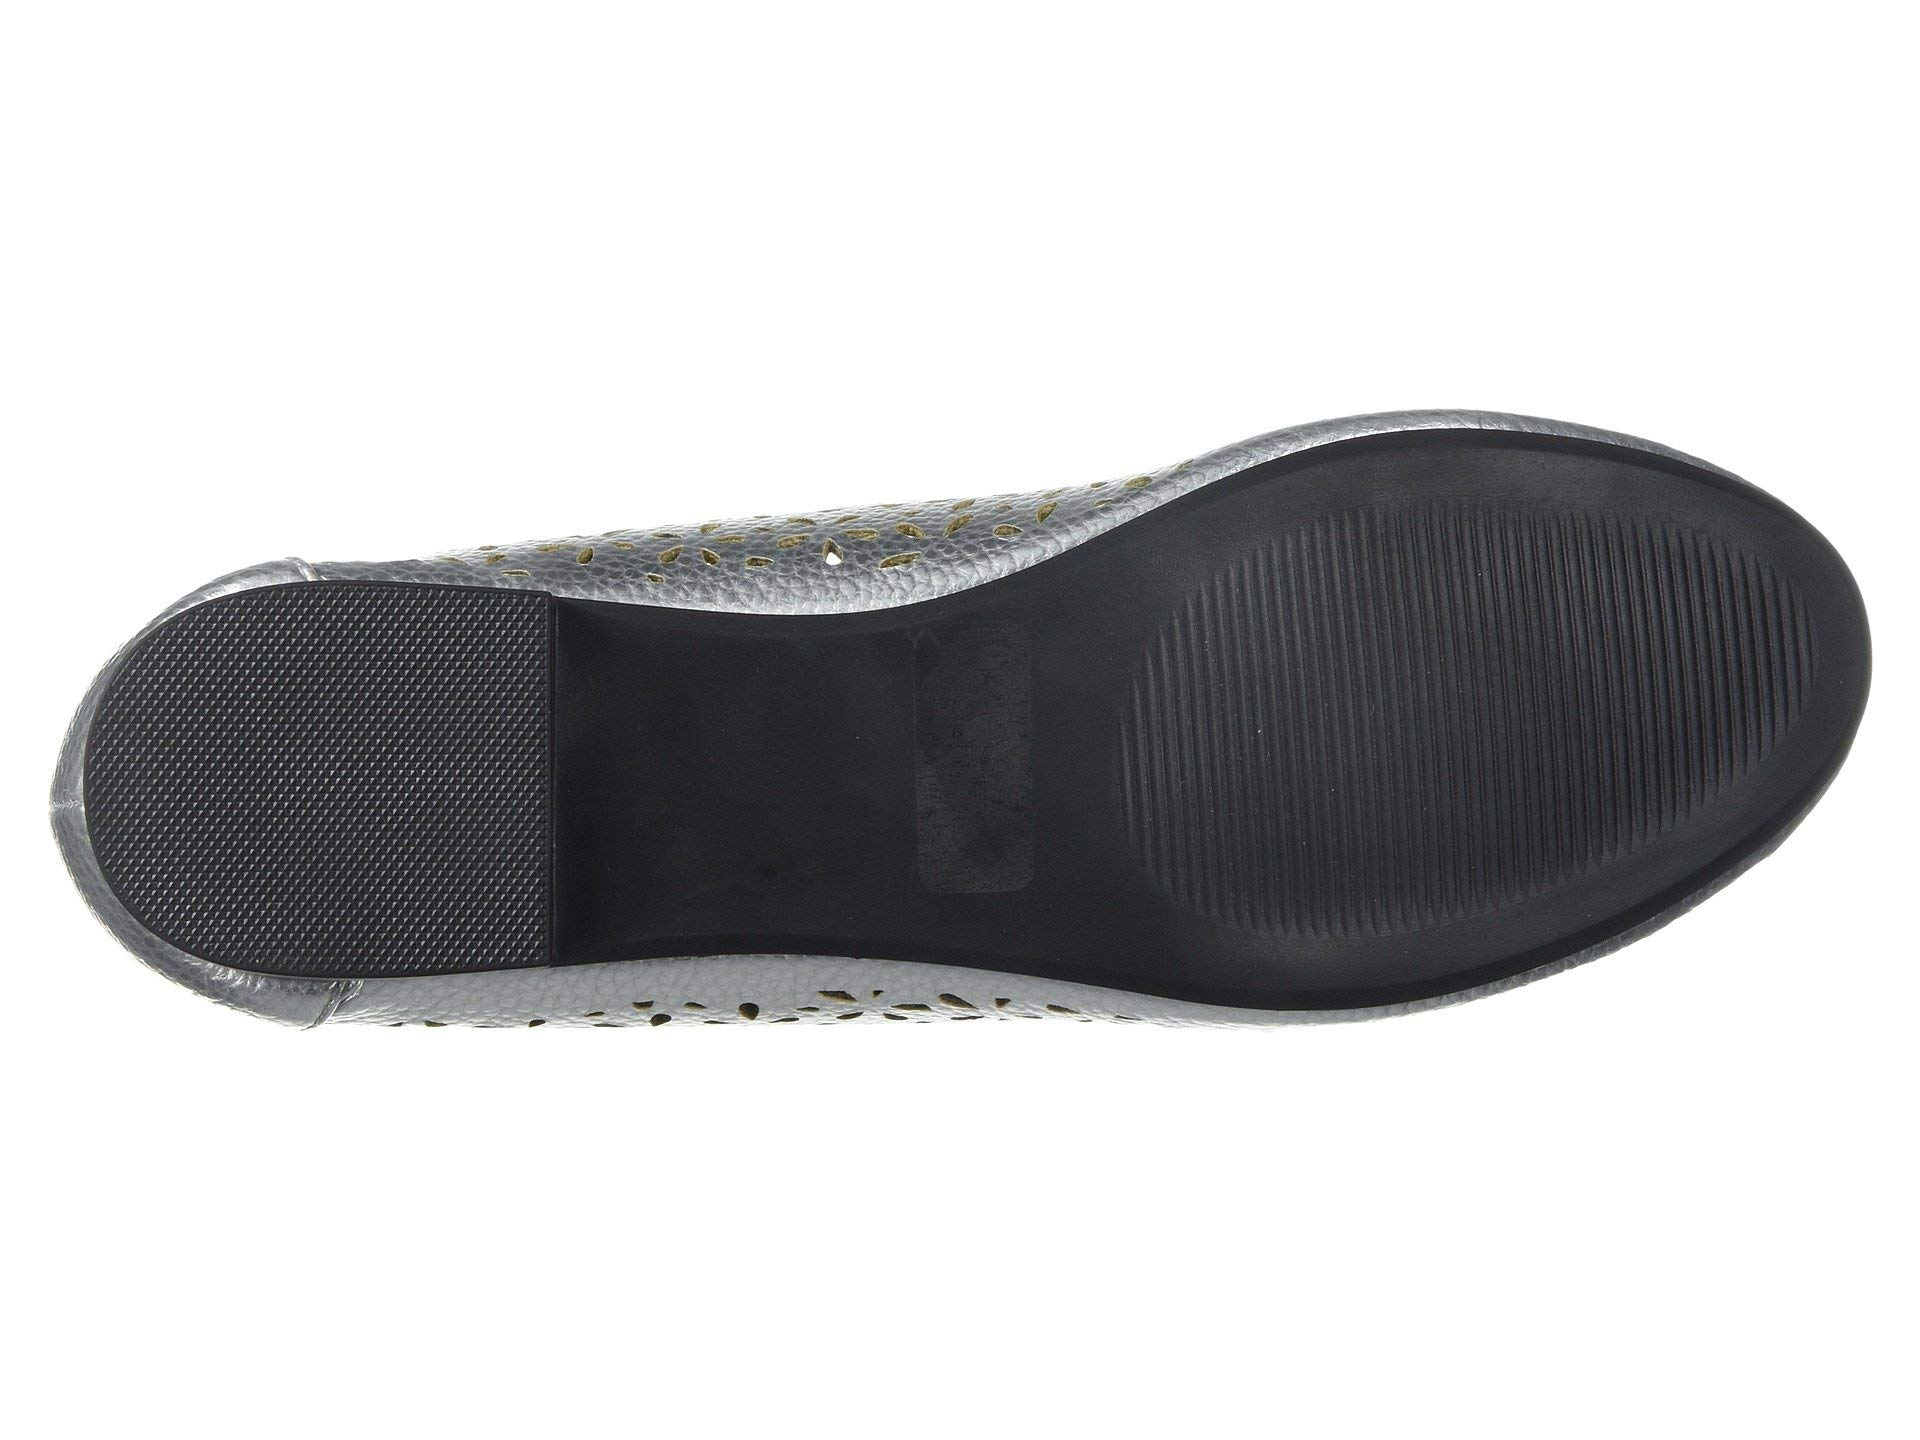line: (1214, 575, 1531, 883), (1531, 528, 1775, 756)
